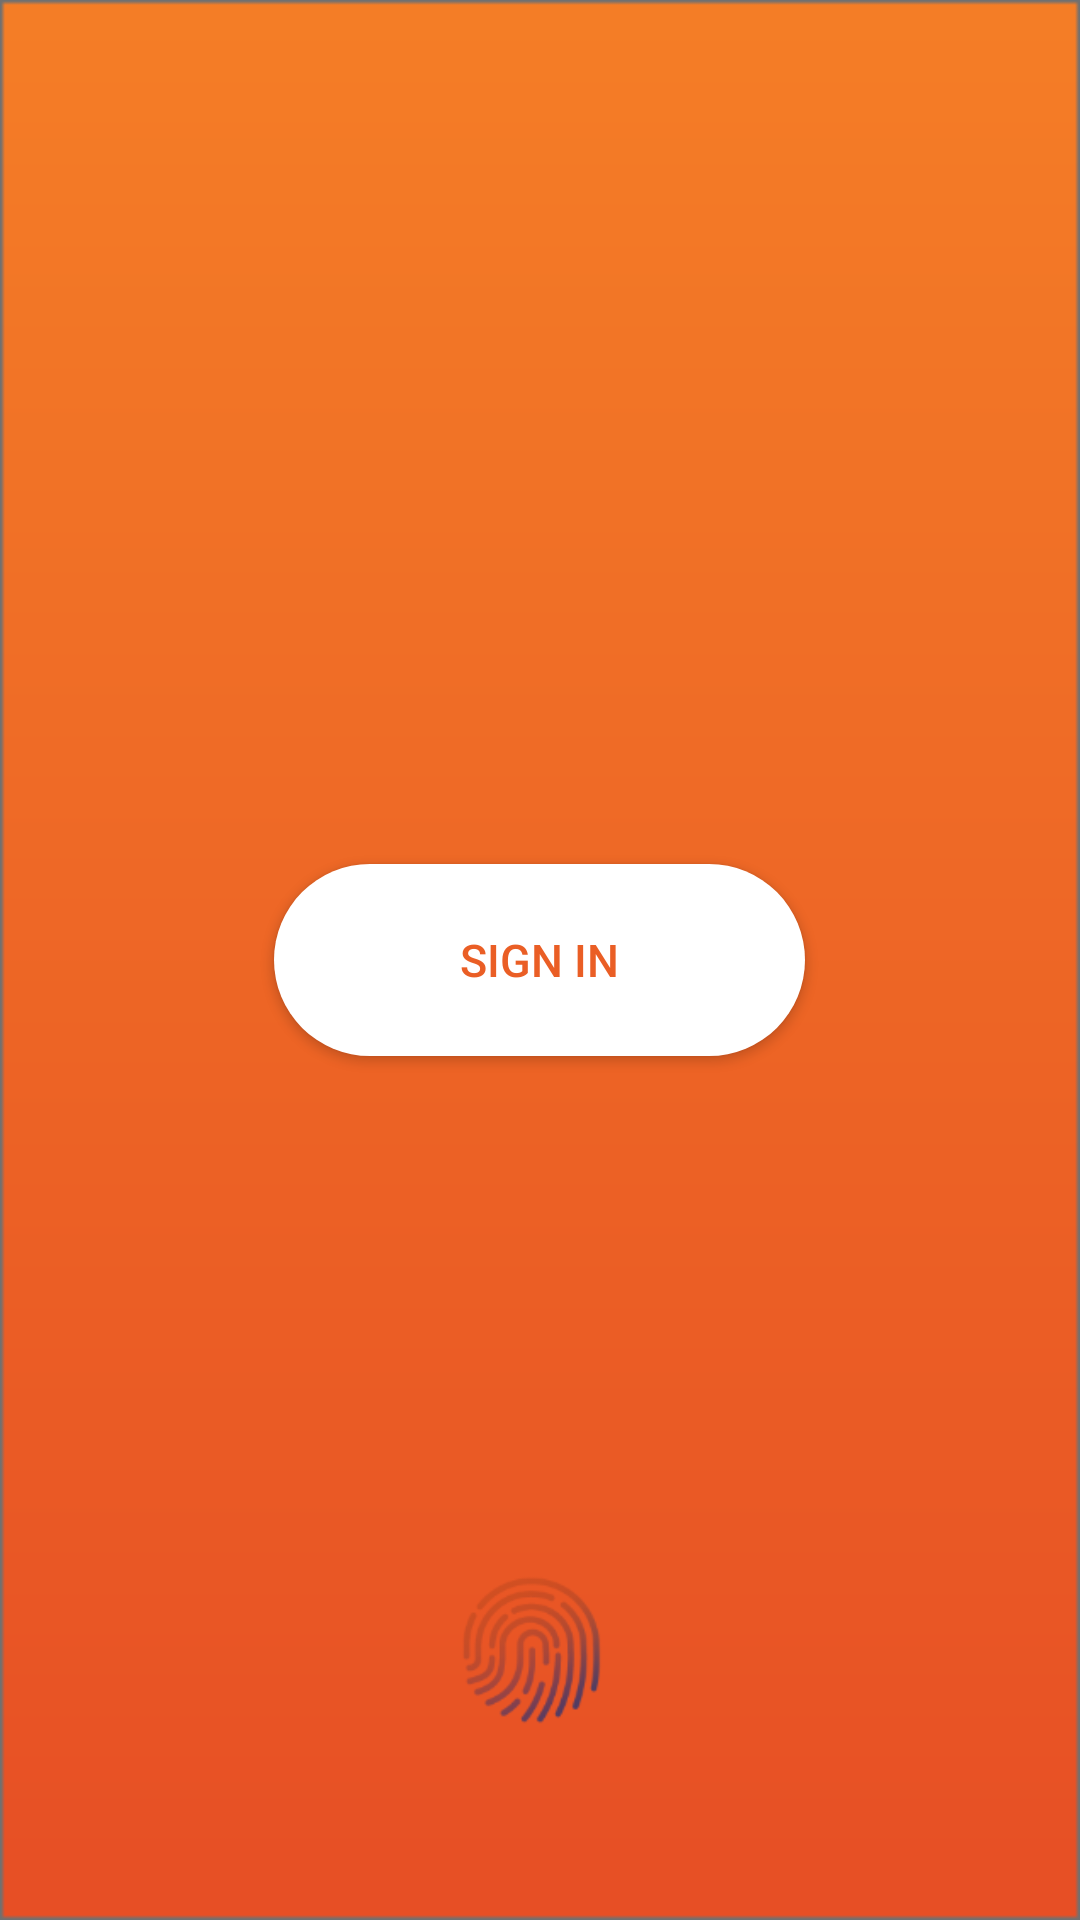

Icon bounding boxes for this 1080w x 1920h phone screenshot, format [x1,y1,x2,y2]:
fingerprint: [464,1579,600,1723]
